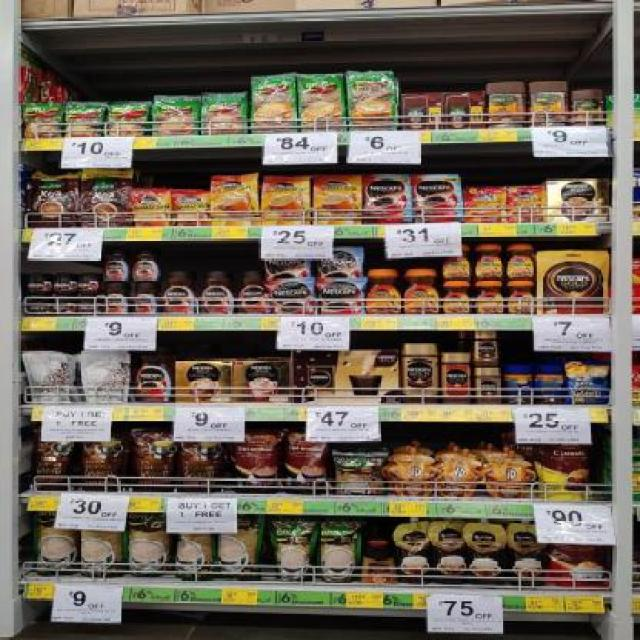Coffee: (411, 175, 464, 223), (211, 176, 260, 224), (261, 177, 310, 225), (364, 175, 411, 223), (315, 176, 362, 224), (133, 349, 173, 402), (404, 344, 438, 404), (198, 272, 236, 312), (366, 269, 400, 313), (162, 272, 198, 313), (405, 269, 438, 313), (238, 272, 271, 314), (173, 190, 209, 227), (321, 280, 362, 312), (320, 247, 362, 278), (274, 282, 315, 312), (134, 191, 168, 226), (473, 244, 504, 279), (506, 280, 537, 312), (507, 244, 536, 278), (442, 244, 470, 278), (444, 280, 473, 312), (475, 368, 500, 403), (476, 280, 504, 311), (130, 249, 158, 279), (473, 331, 496, 366), (104, 283, 130, 312), (133, 282, 158, 312), (105, 252, 128, 280), (77, 272, 101, 293), (27, 272, 50, 293), (54, 272, 78, 292), (56, 294, 78, 314), (29, 294, 51, 312), (82, 294, 101, 312)
